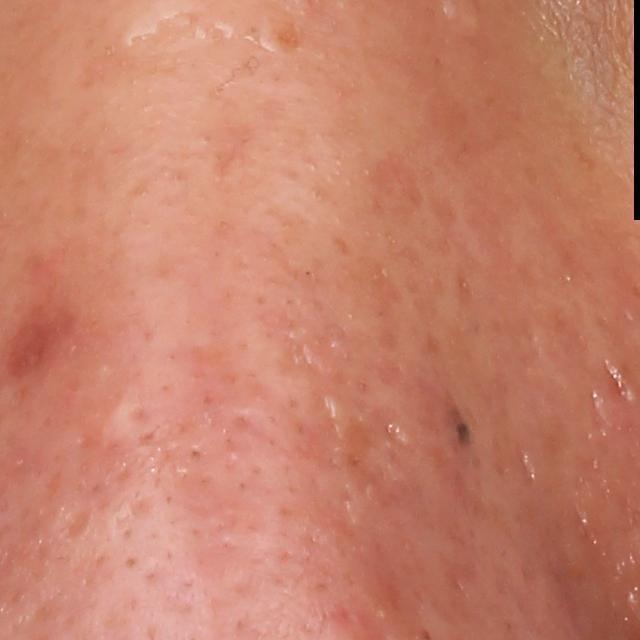atrophic_scar: (344, 416, 401, 499), (2, 311, 57, 379), (598, 354, 634, 410), (57, 506, 89, 542)
nevus: (449, 403, 473, 444)
